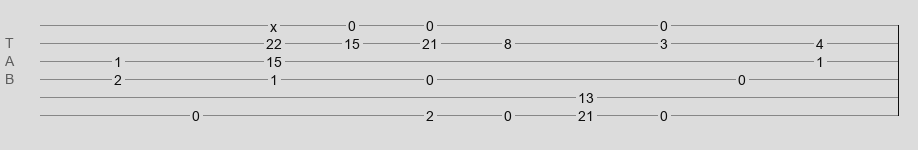0: (192, 108, 200, 118), (348, 18, 356, 28), (426, 72, 434, 82), (426, 18, 434, 28), (504, 108, 512, 118), (660, 108, 668, 118), (660, 18, 668, 28), (738, 72, 746, 82)
1: (114, 54, 122, 64), (270, 72, 278, 82), (816, 54, 824, 64)
13: (578, 90, 594, 100)
15: (266, 54, 282, 64), (344, 36, 360, 46)
2: (114, 72, 122, 82), (426, 108, 434, 118)
21: (422, 36, 438, 46), (578, 108, 594, 118)
22: (266, 36, 282, 46)
3: (660, 36, 668, 46)
4: (816, 36, 824, 46)
8: (504, 36, 512, 46)
x: (270, 19, 277, 27)
